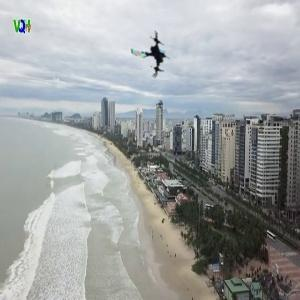drone: (126, 28, 176, 78)
